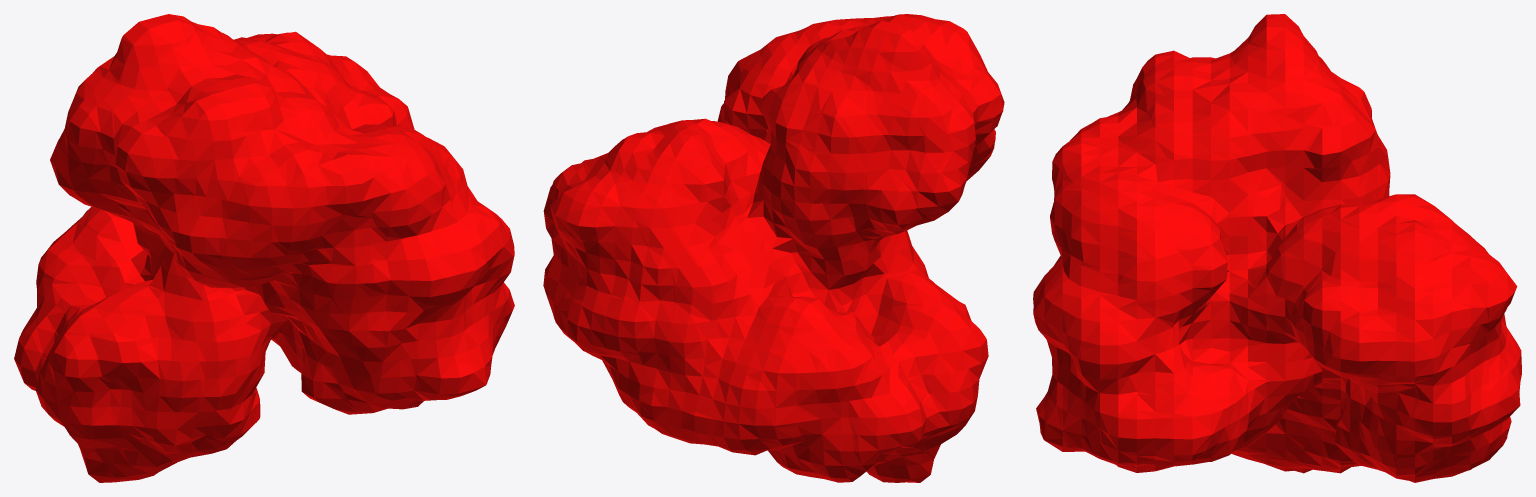
File: gudD_coarse.dae
3 views of the same model, side by side, from view 1: azimuth 30°, elevation 25°; view 2: azimuth 150°, elevation 25°; view 3: azimuth 270°, elevation 25° (orthographic). The views are drawn at different scales.
Visible parts, largest first — view 1: gudD; view 2: gudD; view 3: gudD.
Boxes of the visible parts, x1,y1,x2,y2 form: gudD: (14,14,514,482); gudD: (543,14,1004,482); gudD: (1033,14,1521,482).
Size of the model in its own units: 93.29 by 105 by 102.
